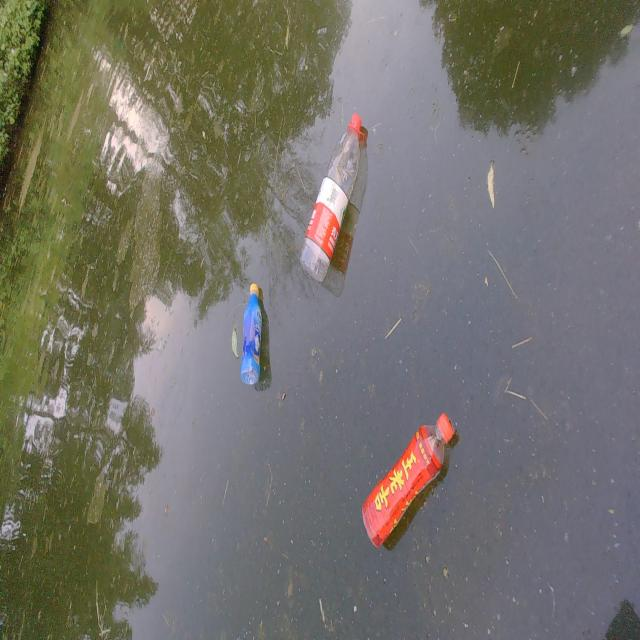Bottle: (360, 410, 458, 549), (296, 111, 366, 281), (239, 284, 271, 386)
